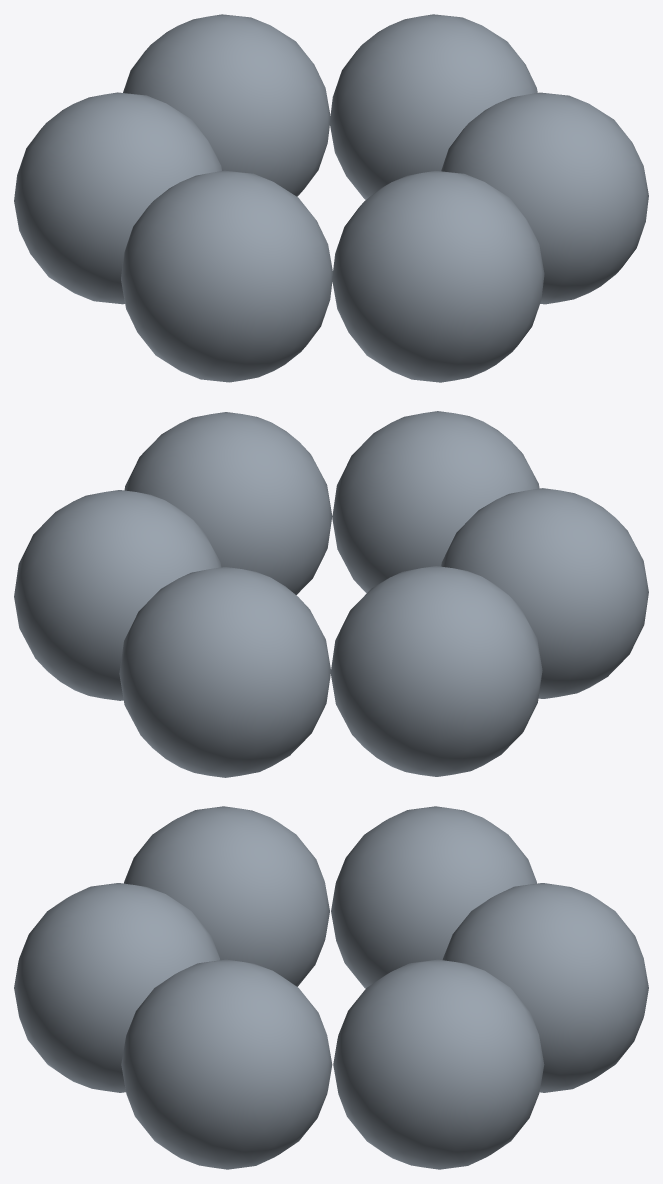
3 views of the same model, one above another, from view 1: azimuth 30°, elevation 25°; view 2: azimuth 150°, elevation 25°; view 3: azimuth 270°, elevation 25° (orthographic).
Visible parts, largest first — view 1: GeoSphere289; view 2: GeoSphere289; view 3: GeoSphere289.
Boxes of the visible parts, x1,y1,x2,y2 form: GeoSphere289: (14, 14, 648, 382); GeoSphere289: (14, 411, 648, 777); GeoSphere289: (14, 806, 648, 1169).
Size of the model in its own units: 109 by 40 by 120.
1 material, 1 textured.
